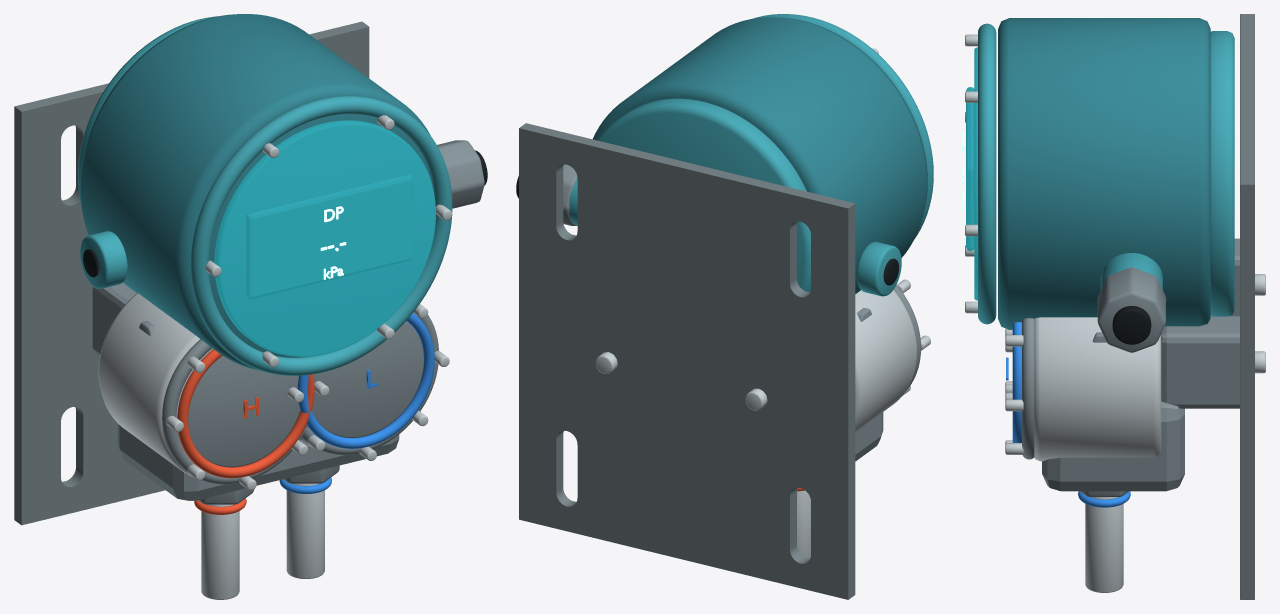
Rendered from differential-pressure-transmitter-wet-wet-generic-v1.glb.
3 renders of one model, left to right at view 1: azimuth 30°, elevation 25°; view 2: azimuth 150°, elevation 25°; view 3: azimuth 270°, elevation 25°, orthographic. The views are drawn at different scales.
Parts seen in each view (by area): view 1: ELECTRONICS_HOUSING_MAIN, MOUNTING_BRACKET_BACK_PLATE, LOCAL_DISPLAY_FACE, LOCAL_DISPLAY_LCD_WINDOW, DISPLAY_FRONT_BEZEL, SENSOR_HIGH_CAPSULE, SENSOR_HIGH_DIAPHRAGM_FACE, SENSOR_LOW_DIAPHRAGM_FACE, SENSOR_COPLANAR_FLANGE, PROCESS_HIGH_PORT_FACE, PROCESS_LOW_PORT_FACE, SENSOR_HIGH_IDENTIFICATION_RING (+7 smaller); view 2: MOUNTING_BRACKET_BACK_PLATE, ELECTRONICS_HOUSING_MAIN, ELECTRONICS_HOUSING_REAR_CAP, SENSOR_HIGH_CAPSULE, DISPLAY_FRONT_BEZEL, LEFT_CABLE_ENTRY_FIXED_BLIND_PLUG, PROCESS_HIGH_PORT_FACE, SENSOR_COPLANAR_FLANGE, CABLE_GLAND_COMPRESSION_NUT; view 3: ELECTRONICS_HOUSING_MAIN, SENSOR_LOW_CAPSULE, MOUNTING_BRACKET_BACK_PLATE, ELECTRONICS_HOUSING_REAR_CAP, MOUNTING_STANDOFF_2, SENSOR_COPLANAR_FLANGE, DISPLAY_FRONT_BEZEL, CABLE_GLAND_COMPRESSION_NUT, PROCESS_LOW_PORT_FACE, SENSOR_LOW_CAPSULE_SEAM, LOCAL_DISPLAY_LCD_WINDOW, CABLE_POWER_SIGNAL_PORT_FACE (+5 smaller).
Boxes of the visible parts, x1,y1,x2,y2 form: ELECTRONICS_HOUSING_MAIN: (80, 14, 432, 370); MOUNTING_BRACKET_BACK_PLATE: (14, 21, 369, 525); LOCAL_DISPLAY_FACE: (214, 120, 435, 356); LOCAL_DISPLAY_LCD_WINDOW: (246, 174, 413, 299); DISPLAY_FRONT_BEZEL: (190, 96, 452, 375); SENSOR_HIGH_CAPSULE: (98, 293, 212, 476); SENSOR_HIGH_DIAPHRAGM_FACE: (188, 356, 300, 467); SENSOR_LOW_DIAPHRAGM_FACE: (312, 321, 423, 437); SENSOR_COPLANAR_FLANGE: (118, 424, 399, 500); PROCESS_HIGH_PORT_FACE: (201, 504, 239, 599); PROCESS_LOW_PORT_FACE: (286, 483, 324, 578); SENSOR_HIGH_IDENTIFICATION_RING: (177, 349, 314, 478); MOUNTING_BRACKET_BACK_PLATE: (519, 123, 855, 599); ELECTRONICS_HOUSING_MAIN: (593, 17, 927, 293); ELECTRONICS_HOUSING_REAR_CAP: (598, 98, 810, 292); SENSOR_HIGH_CAPSULE: (855, 289, 917, 431); DISPLAY_FRONT_BEZEL: (753, 14, 933, 238); LEFT_CABLE_ENTRY_FIXED_BLIND_PLUG: (857, 242, 901, 296); PROCESS_HIGH_PORT_FACE: (797, 490, 810, 558); SENSOR_COPLANAR_FLANGE: (855, 412, 883, 461); CABLE_GLAND_COMPRESSION_NUT: (563, 164, 577, 225); ELECTRONICS_HOUSING_MAIN: (998, 18, 1210, 329); SENSOR_LOW_CAPSULE: (1034, 317, 1161, 461); MOUNTING_BRACKET_BACK_PLATE: (1240, 14, 1254, 599); ELECTRONICS_HOUSING_REAR_CAP: (1210, 31, 1234, 316); MOUNTING_STANDOFF_2: (1161, 316, 1239, 408); SENSOR_COPLANAR_FLANGE: (1042, 401, 1184, 491); DISPLAY_FRONT_BEZEL: (978, 23, 996, 324); CABLE_GLAND_COMPRESSION_NUT: (1097, 267, 1166, 352); PROCESS_LOW_PORT_FACE: (1085, 497, 1123, 592); SENSOR_LOW_CAPSULE_SEAM: (1022, 318, 1034, 459); LOCAL_DISPLAY_LCD_WINDOW: (966, 87, 974, 250); CABLE_POWER_SIGNAL_PORT_FACE: (1112, 306, 1151, 344).
Bounding box in the file's own units: 0.255 × 0.32 × 0.1656.
